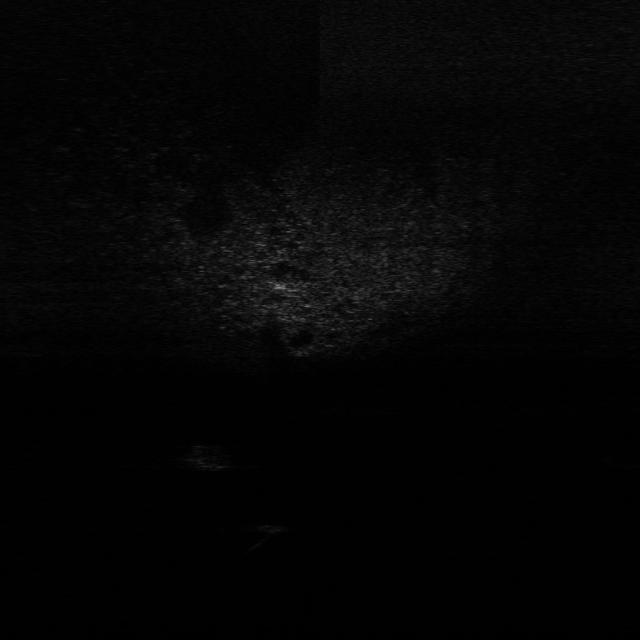circle cage: (187, 440, 236, 474)
cylinder: (247, 518, 279, 558)
